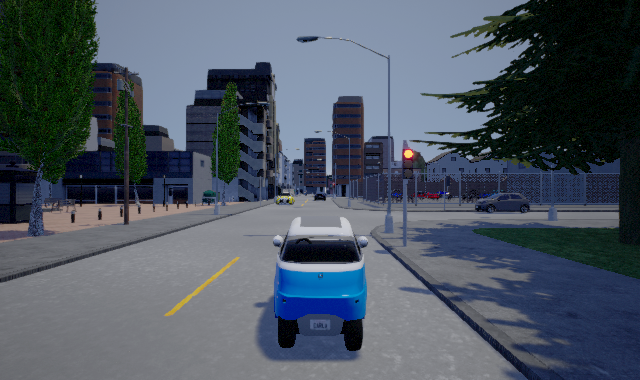traffic_light: (402, 143, 413, 185)
vehicle: (273, 216, 368, 351), (475, 191, 530, 213), (274, 191, 293, 204), (313, 189, 328, 204)
